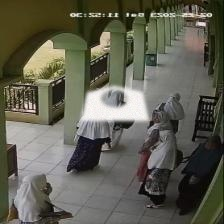Mukena: (80, 86, 149, 120)
